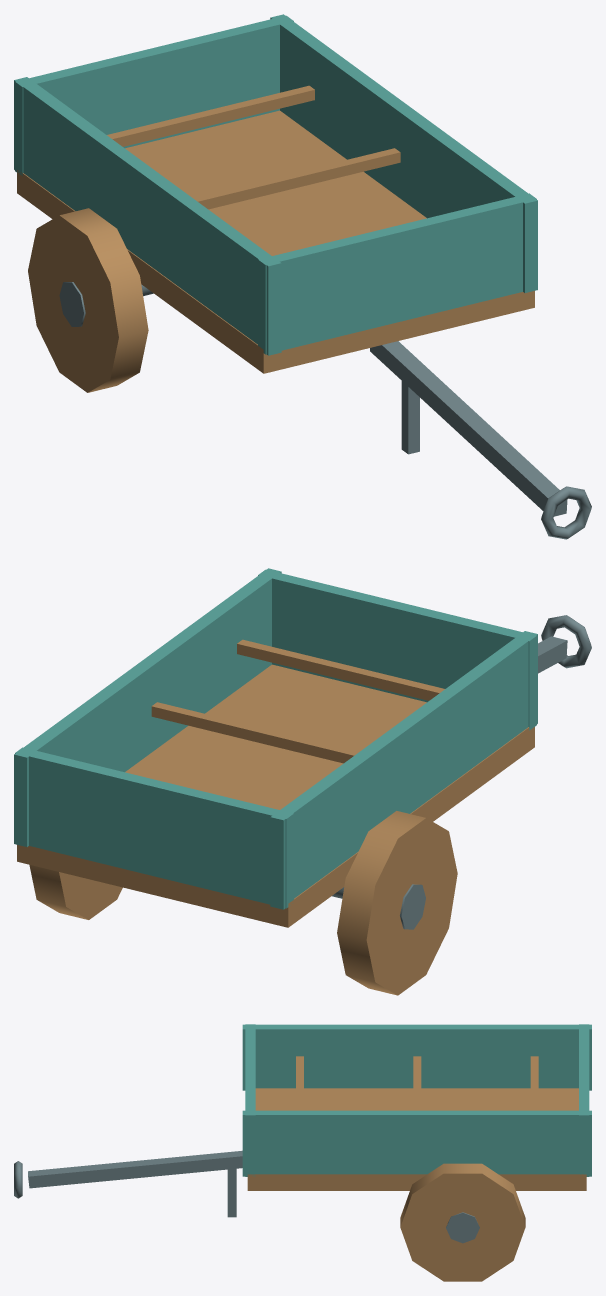
Rendered from Trailer.glb.
3 views of the same model, one above another, from view 1: azimuth 30°, elevation 25°; view 2: azimuth 150°, elevation 25°; view 3: azimuth 270°, elevation 25° (orthographic). The views are drawn at different scales.
Visible parts, largest first — view 1: trailer-static-trailer-paint-mat, trailer-static-trailer-timber-mat, trailer-static-trailer-wheel-mat, trailer-static-trailer-iron-mat, trailer-static-trailer-steel-mat; view 2: trailer-static-trailer-paint-mat, trailer-static-trailer-timber-mat, trailer-static-trailer-wheel-mat, trailer-static-trailer-steel-mat, trailer-static-trailer-iron-mat; view 3: trailer-static-trailer-paint-mat, trailer-static-trailer-timber-mat, trailer-static-trailer-wheel-mat, trailer-static-trailer-iron-mat, trailer-static-trailer-steel-mat.
Boxes of the visible parts, x1,y1,x2,y2 form: trailer-static-trailer-paint-mat: (14, 14, 537, 355); trailer-static-trailer-timber-mat: (17, 85, 534, 373); trailer-static-trailer-wheel-mat: (28, 208, 148, 392); trailer-static-trailer-iron-mat: (141, 284, 567, 516); trailer-static-trailer-steel-mat: (59, 282, 591, 539); trailer-static-trailer-paint-mat: (14, 568, 537, 909); trailer-static-trailer-timber-mat: (17, 639, 534, 927); trailer-static-trailer-wheel-mat: (29, 811, 457, 995); trailer-static-trailer-steel-mat: (400, 615, 591, 929); trailer-static-trailer-iron-mat: (332, 636, 567, 898); trailer-static-trailer-paint-mat: (242, 1024, 591, 1176); trailer-static-trailer-timber-mat: (247, 1056, 586, 1190); trailer-static-trailer-wheel-mat: (400, 1163, 525, 1281); trailer-static-trailer-iron-mat: (28, 1150, 242, 1188); trailer-static-trailer-steel-mat: (14, 1161, 479, 1243).
Size of the model in its own units: 2.08 by 1.31 by 4.43.
